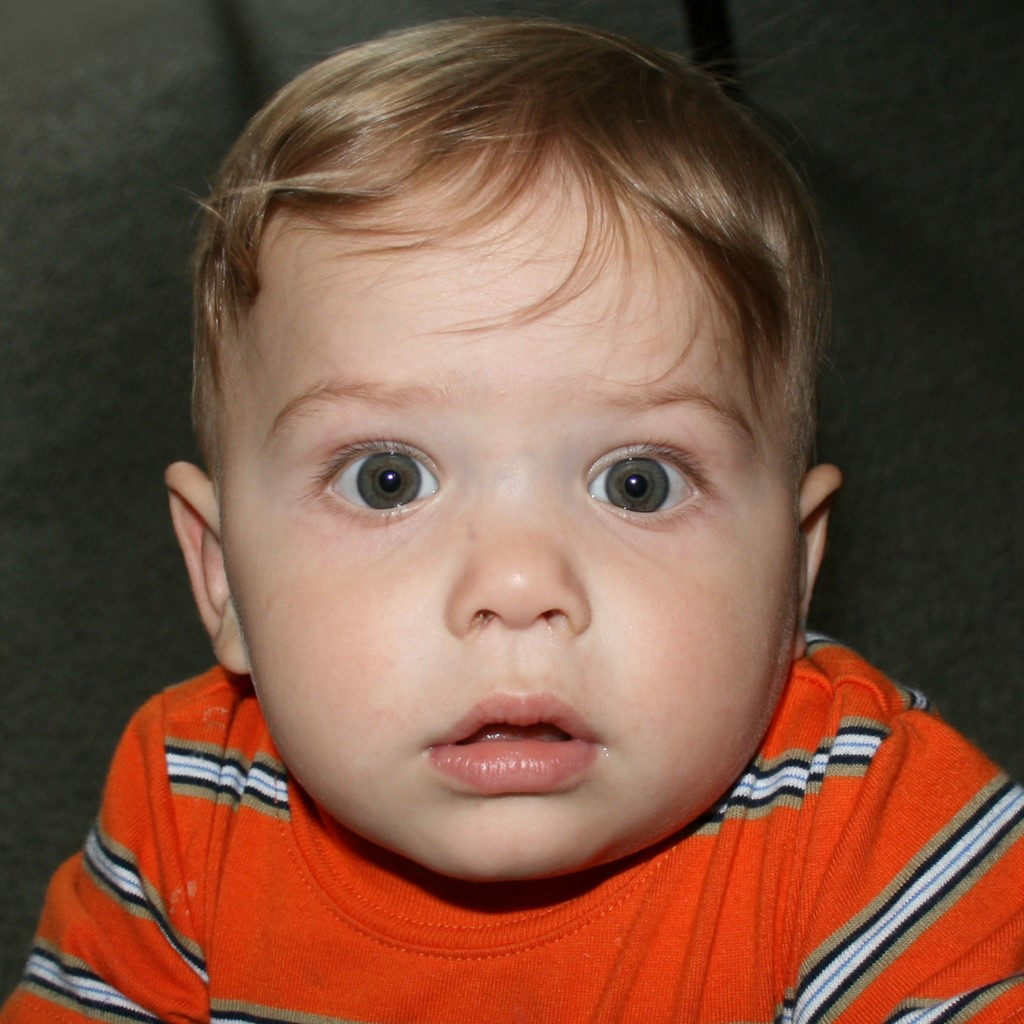sin_mascara: (183, 90, 830, 885)
